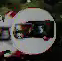Heavy Vehicles: (7, 3, 57, 53)
